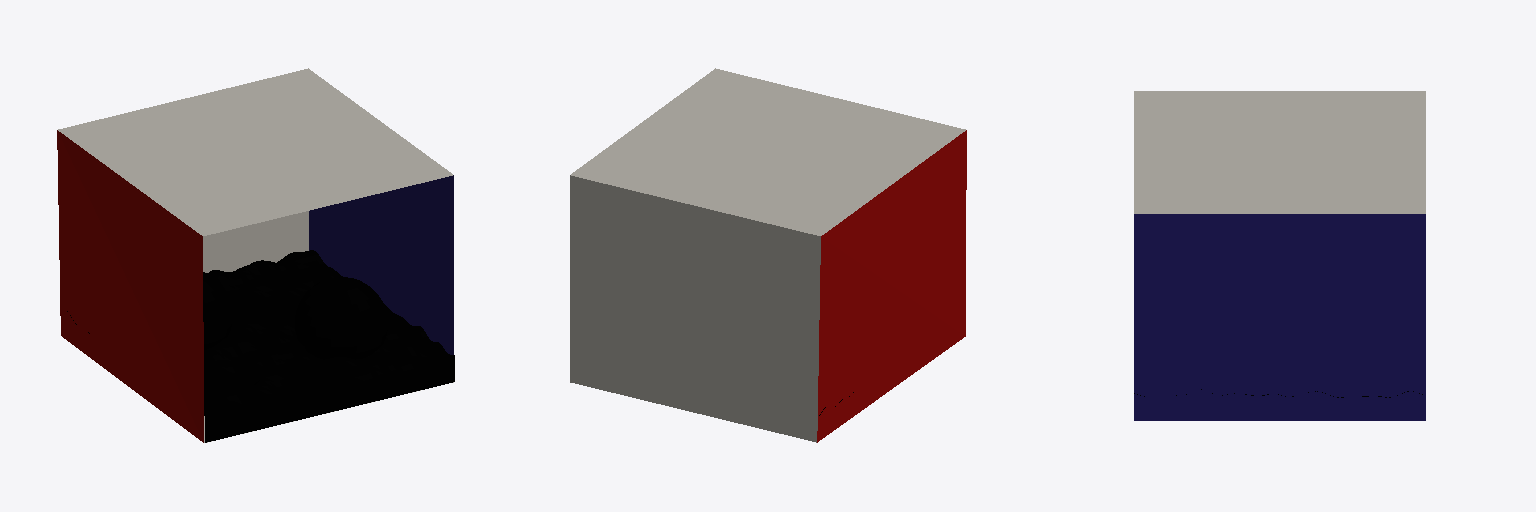
The model's file is CornellBox-Water.obj.
The picture shows the model from 3 angles: view 1: azimuth 30°, elevation 25°; view 2: azimuth 150°, elevation 25°; view 3: azimuth 270°, elevation 25°; orthographic projection.
Visible parts, largest first — view 1: ceiling, leftWall, water, rightWall, rightSphere, backWall, leftSphere; view 2: backWall, ceiling, leftWall; view 3: rightWall, ceiling.
Part boxes in pixels (x1,y1,x2,y2): ceiling: (58, 68, 452, 235); leftWall: (57, 130, 203, 442); water: (67, 250, 454, 442); rightWall: (309, 175, 453, 354); rightSphere: (295, 277, 387, 359); backWall: (203, 211, 308, 272); leftSphere: (203, 272, 232, 349); backWall: (570, 175, 820, 442); ceiling: (571, 68, 965, 235); leftWall: (817, 130, 966, 442); rightWall: (1134, 214, 1425, 420); ceiling: (1134, 91, 1425, 213).
Size of the model in its own units: 2.02 by 1.59 by 2.03.